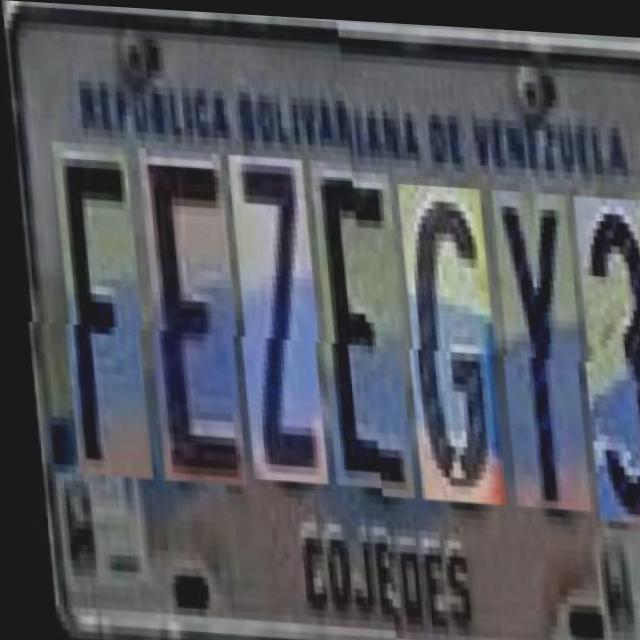3: (570, 186, 640, 515)
e: (136, 154, 243, 491), (307, 164, 410, 493)
f: (50, 150, 149, 485)
g: (394, 176, 500, 497)
y: (488, 182, 586, 502)
z: (226, 160, 324, 489)
